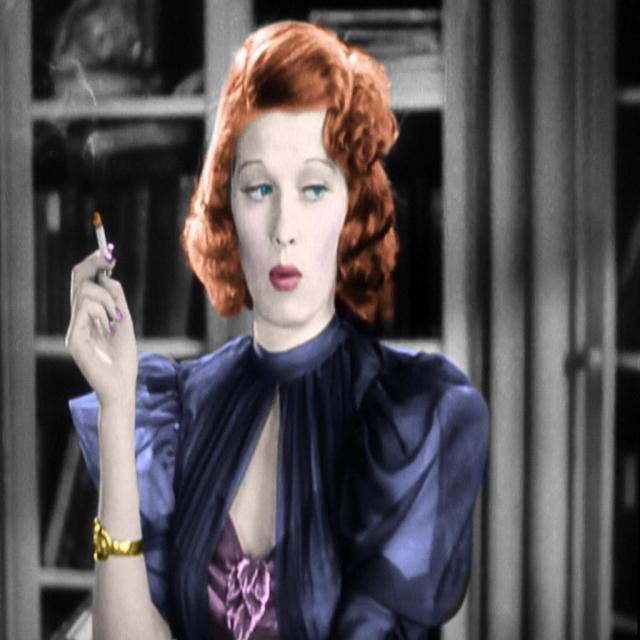smoking: (61, 84, 376, 416)
